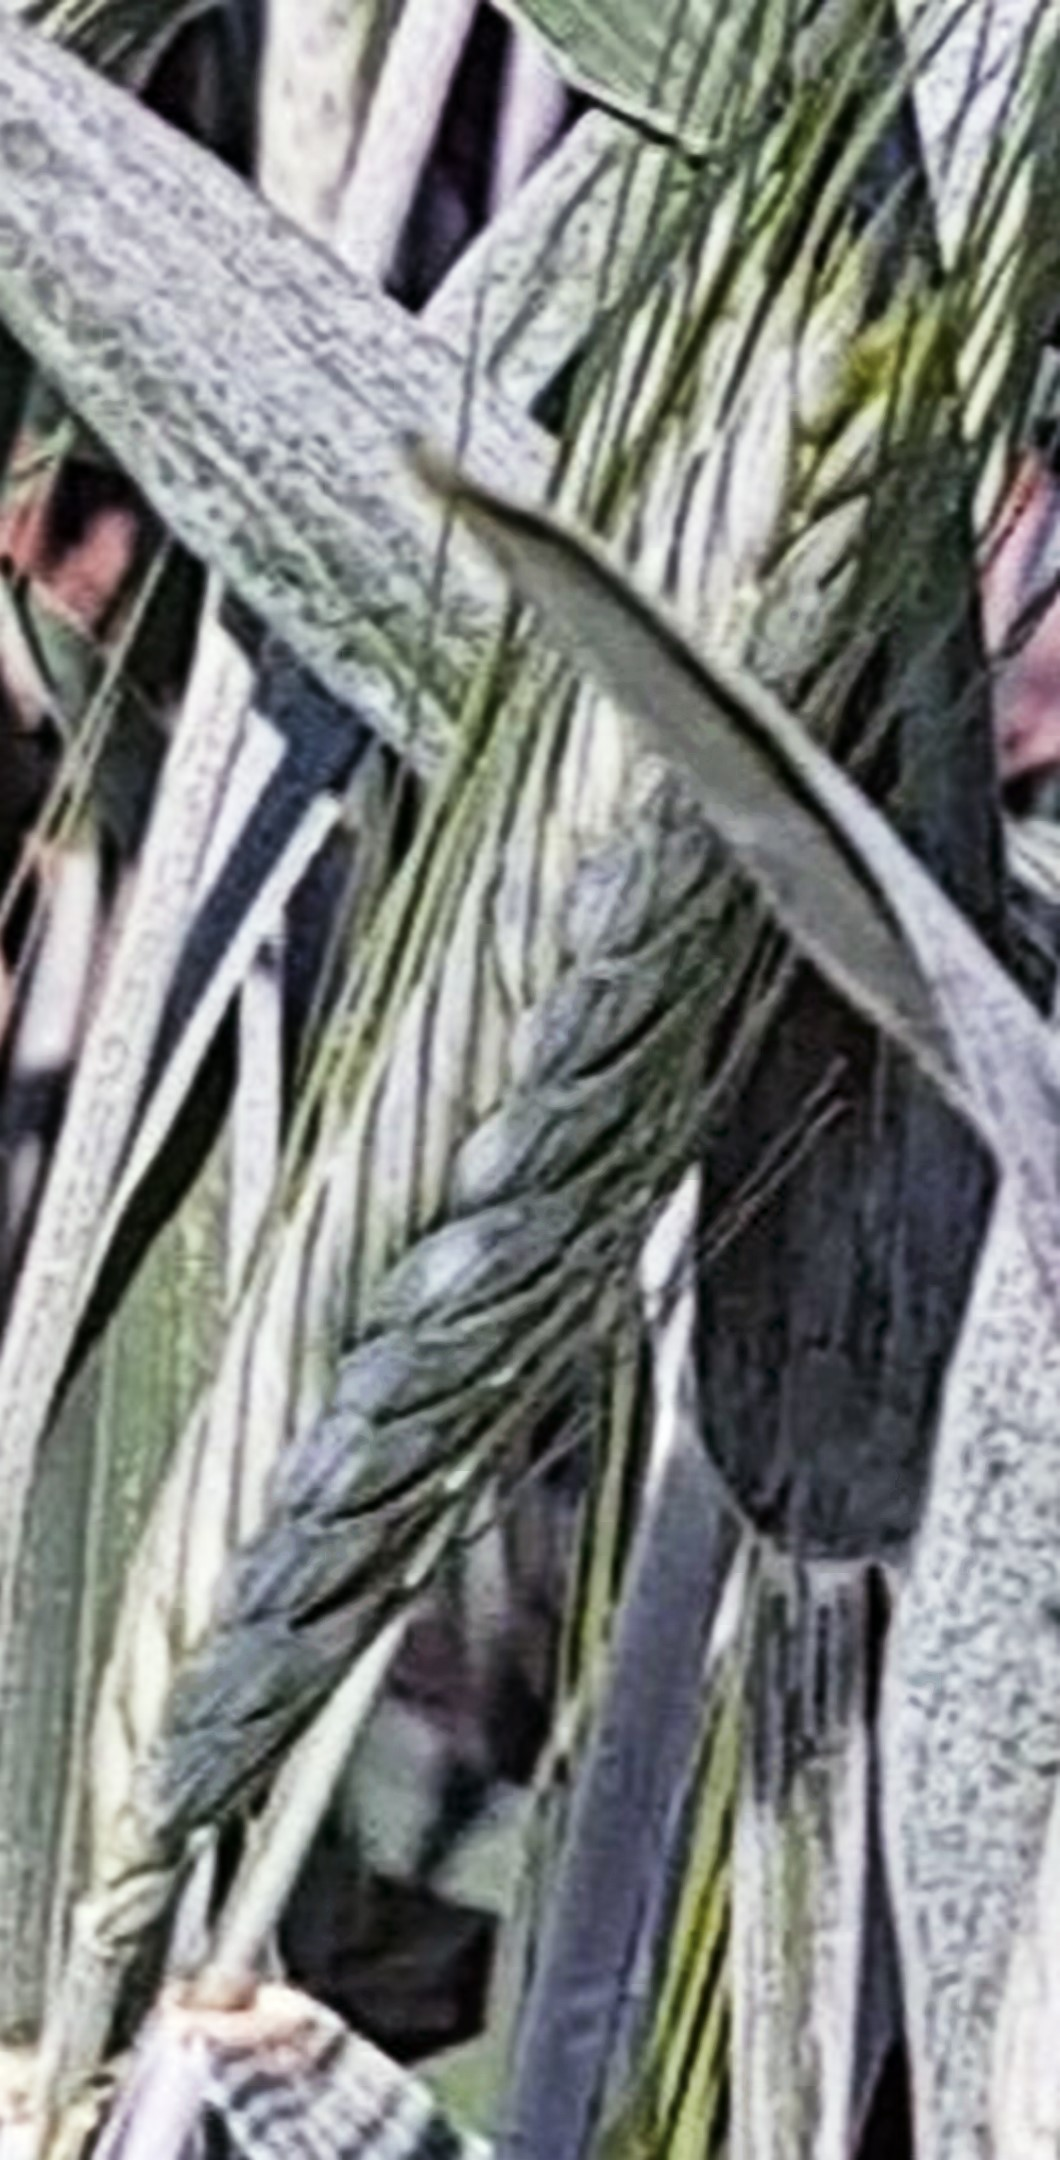Healthy Wheat: (92, 337, 915, 1868)
